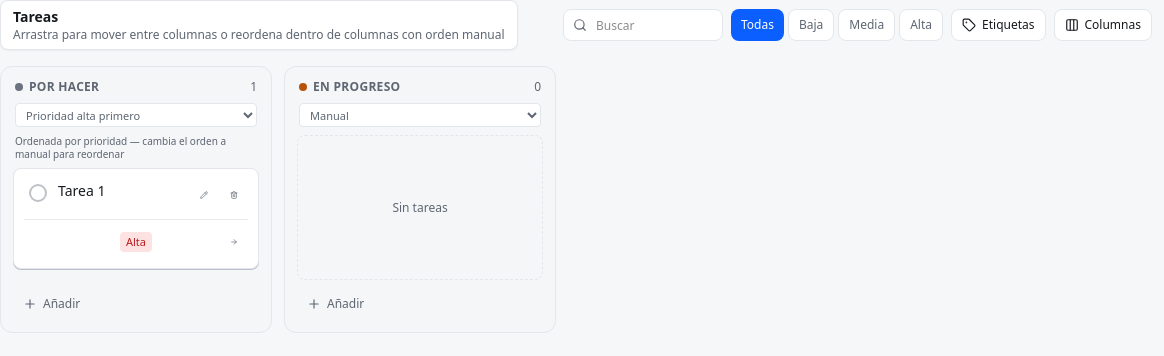
Scenario: SL-21 — Renombrar una columna desde la cabecera del tablero › 1. Pulsar el título abre el campo con el texto seleccionado y el foco dentro
The image size is (1164, 356).
Check: the heading "Tarea 1" is shown, box [58,179,105,200]
Click the button with aria-label "Renombrar columna: Por hacer".
click(64, 87)  # box [29,79,99,95]
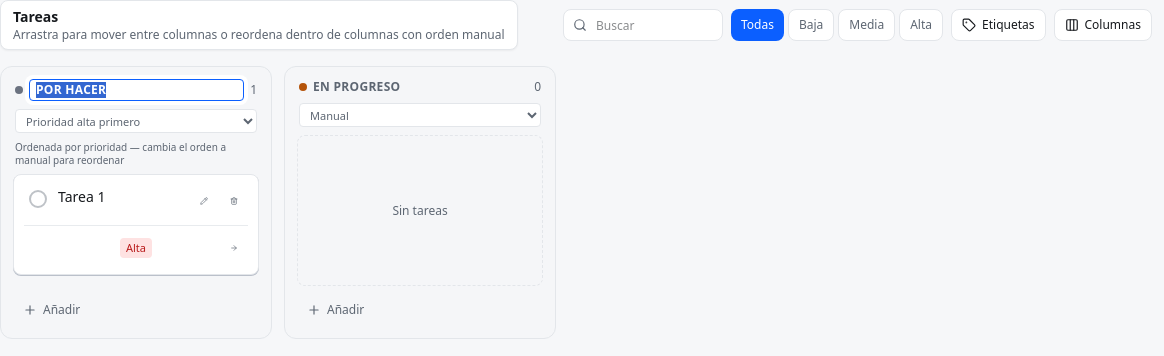
Check: the field named "Nombre de la columna Por hacer" holds "Por hacer", box [29,79,244,101]
